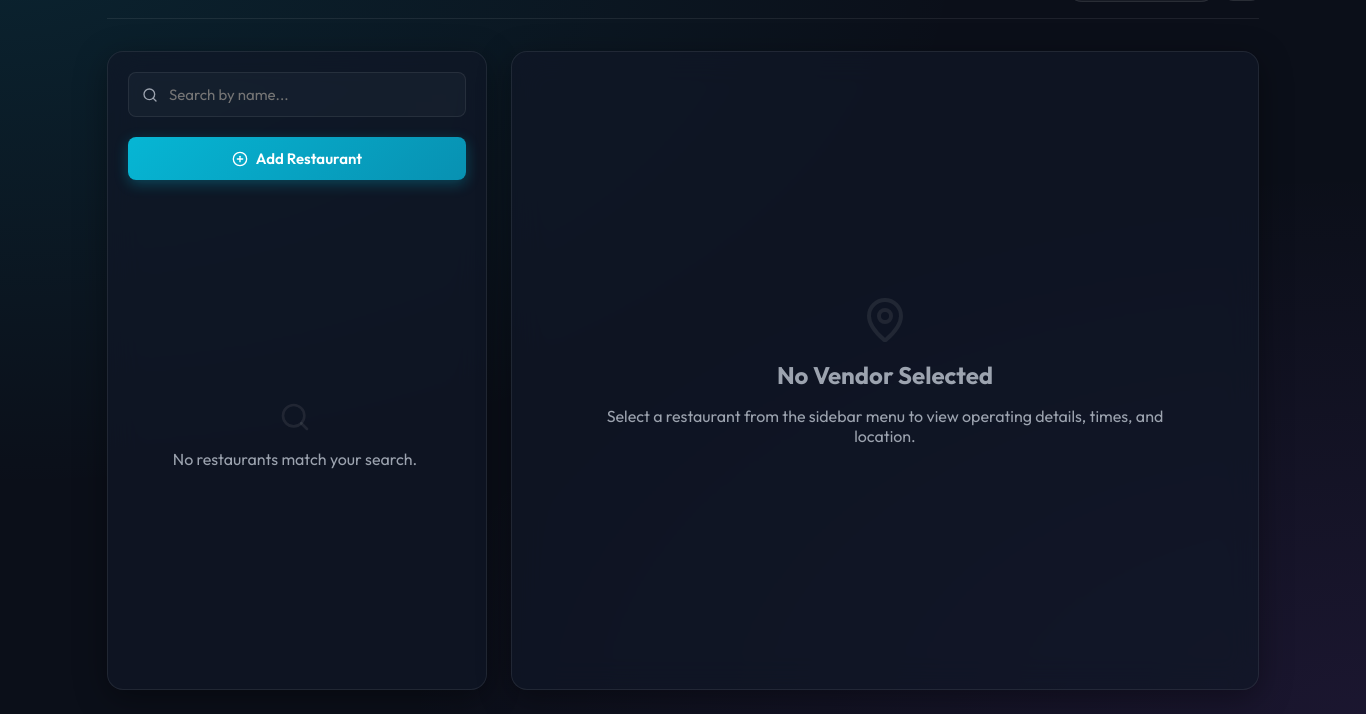
Test: Web UI - App Component › Add Restaurant form includes Cuisine Type and Menu Items section
Step 1. Click the button "Add Restaurant" → (297, 158), box x1=128 y1=137 x2=466 y2=180
(page scrolled)
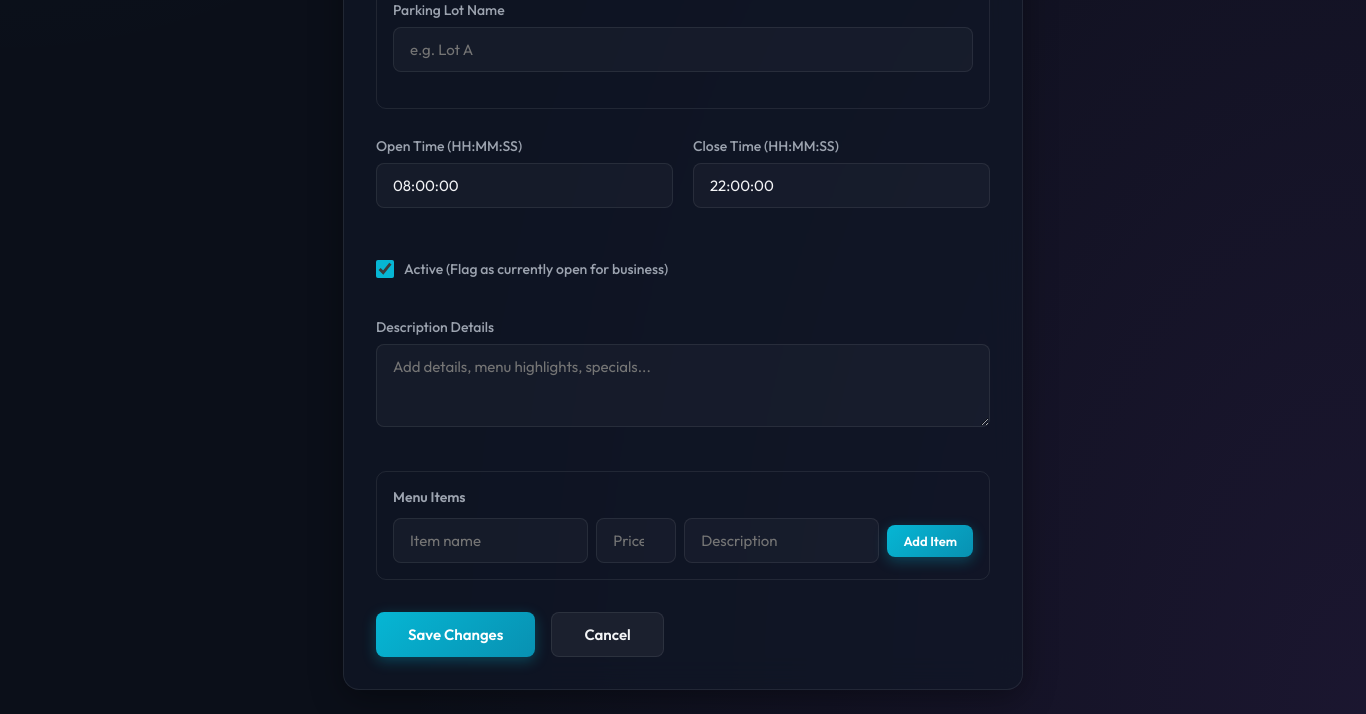
Expected: the text "Menu Items" is shown, x1=393 y1=488 x2=466 y2=506
